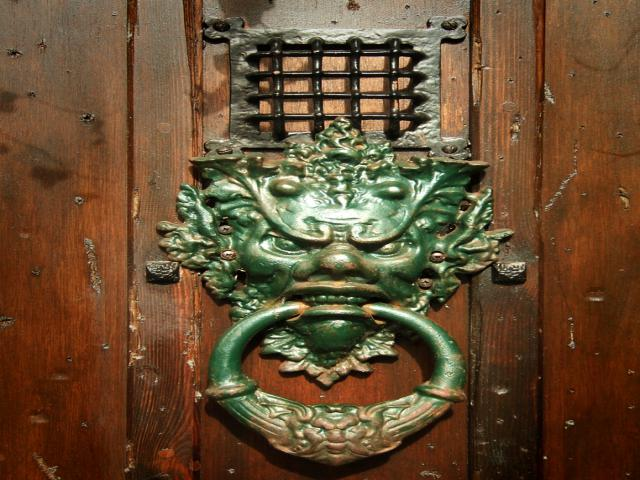Door-handle: (155, 114, 515, 466)
